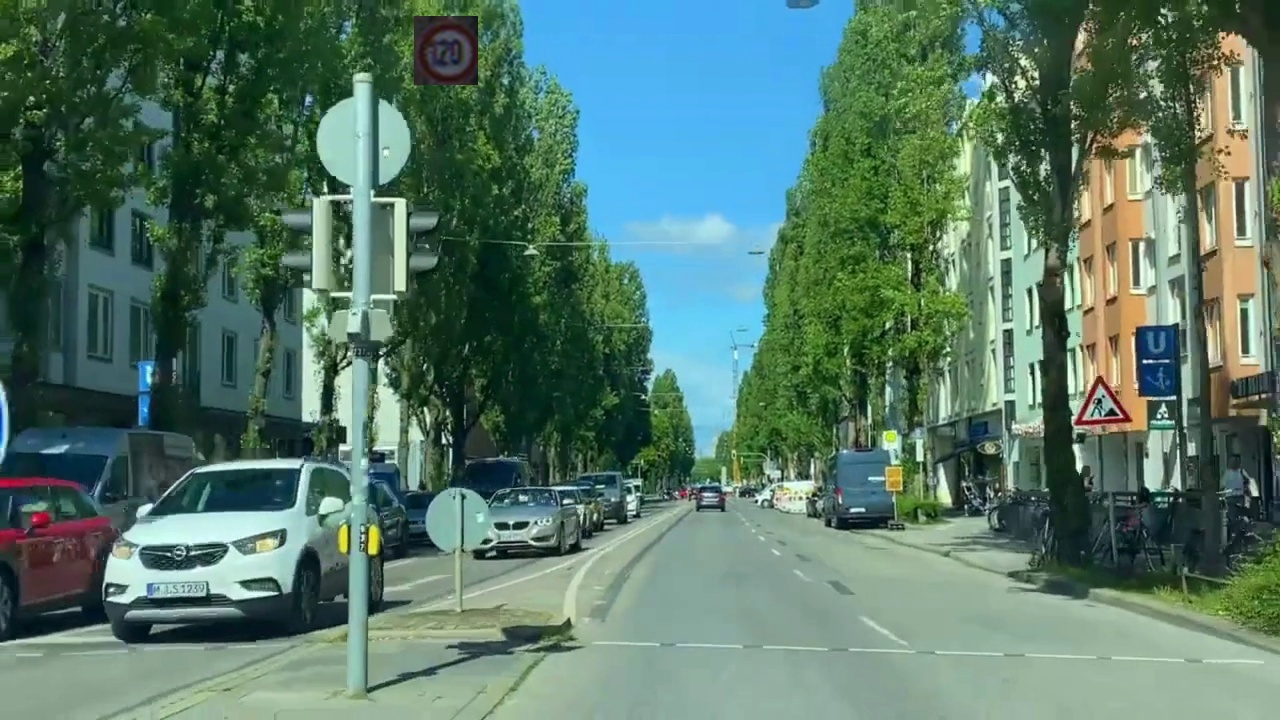Speed 120: (414, 16, 478, 85)
